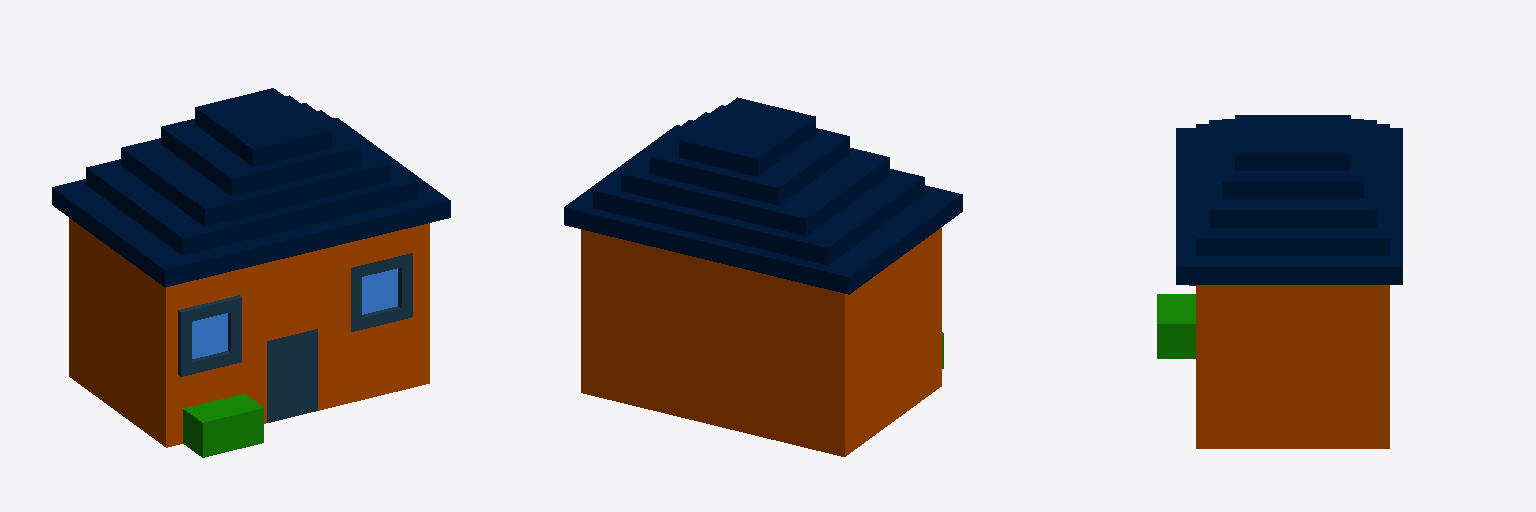
3 views of the same model, side by side, from view 1: azimuth 30°, elevation 25°; view 2: azimuth 150°, elevation 25°; view 3: azimuth 270°, elevation 25° (orthographic).
Visible parts, largest first — view 1: object 1; view 2: object 1; view 3: object 1.
Boxes of the visible parts, x1=… form: object 1: x1=52, y1=88, x2=450, y2=457; object 1: x1=564, y1=97, x2=962, y2=456; object 1: x1=1157, y1=115, x2=1402, y2=448.
Bounding box in the file's own units: 5.1 × 4.4 × 3.8.
Materials: 1 (1 with a texture image).